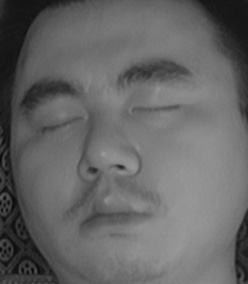blink: (133, 90, 183, 125), (36, 103, 85, 137)
mouth: (70, 183, 158, 244)
